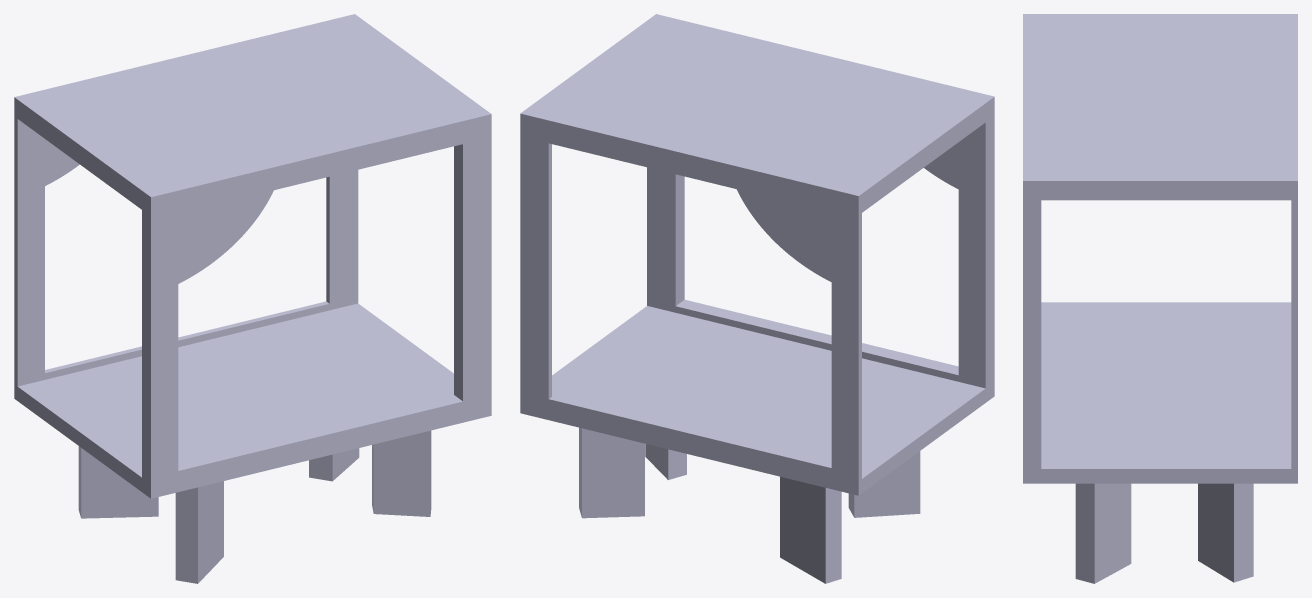
The model's file is Krtyn_Tray_Ex_Body.dae.
3 renders of one model, left to right at view 1: azimuth 30°, elevation 25°; view 2: azimuth 150°, elevation 25°; view 3: azimuth 270°, elevation 25°, orthographic.
Visible parts, largest first — view 1: node0; view 2: node0; view 3: node0.
Part boxes in pixels (x1,y1,x2,y2): node0: (14,14,491,583); node0: (520,14,994,583); node0: (1023,14,1297,583).
Size of the model in its own units: 0.5031 by 0.35 by 0.5836.
